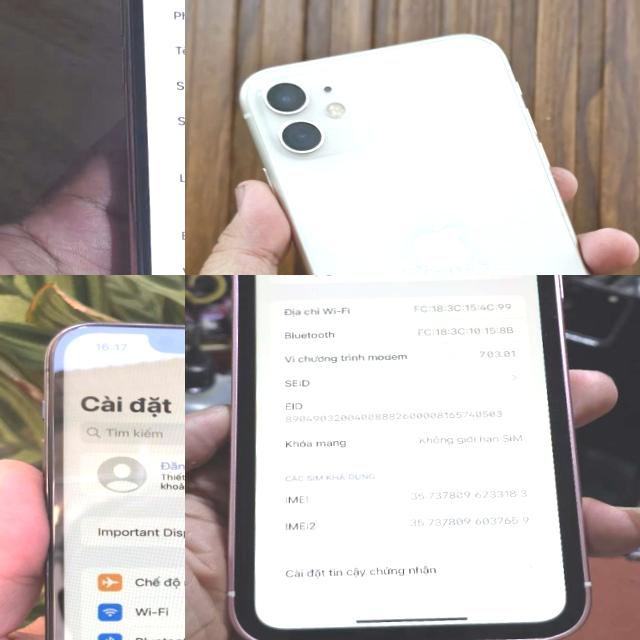gen_11: (214, 30, 640, 275), (25, 302, 185, 640), (111, 0, 185, 275)
gen_x_xs: (227, 275, 588, 640)
